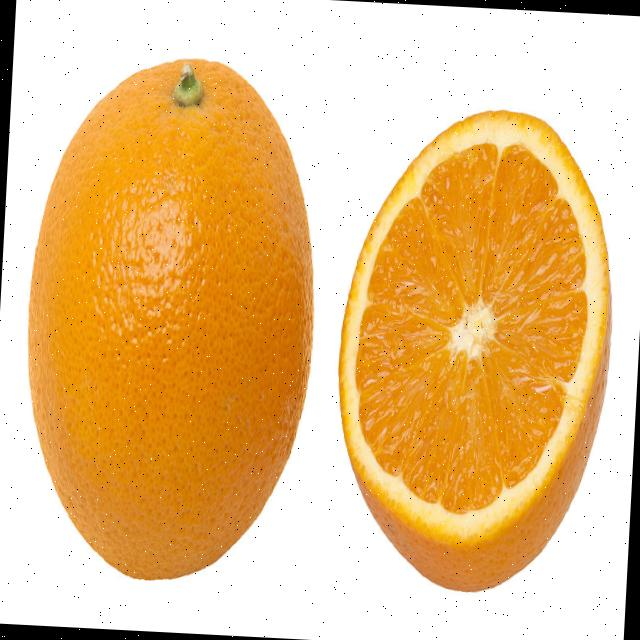Jeruk: (14, 48, 327, 588), (326, 100, 624, 600)
